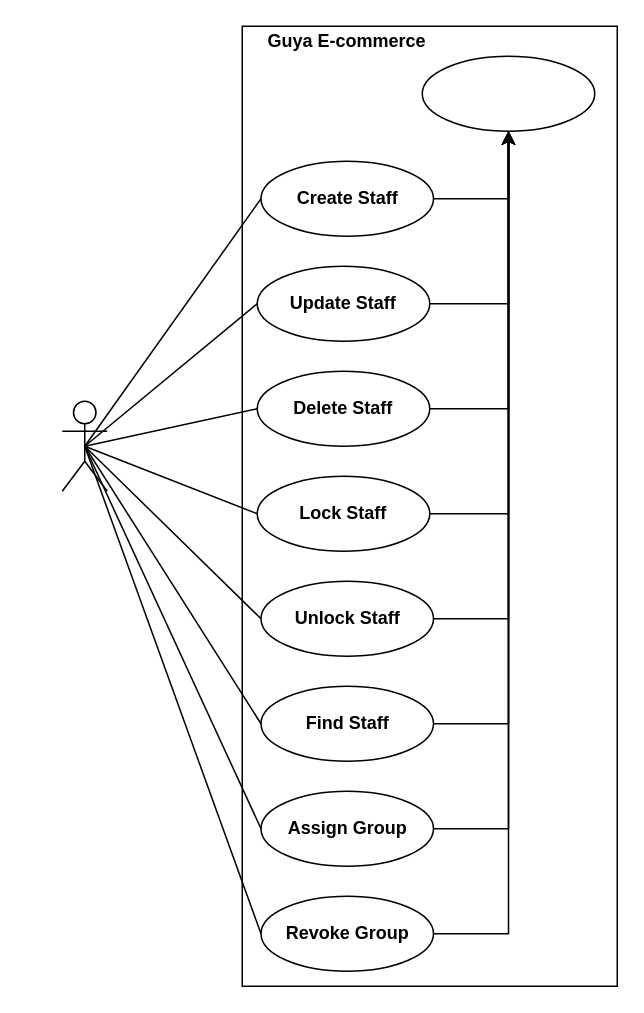
This 644x1013 diagram has some shape labels left out. Each missing label, with the centre of its shape:
"Manage Staffs {abstract}" goes at pixel 508 93.
"Website Administrator" goes at pixel 84 445.
